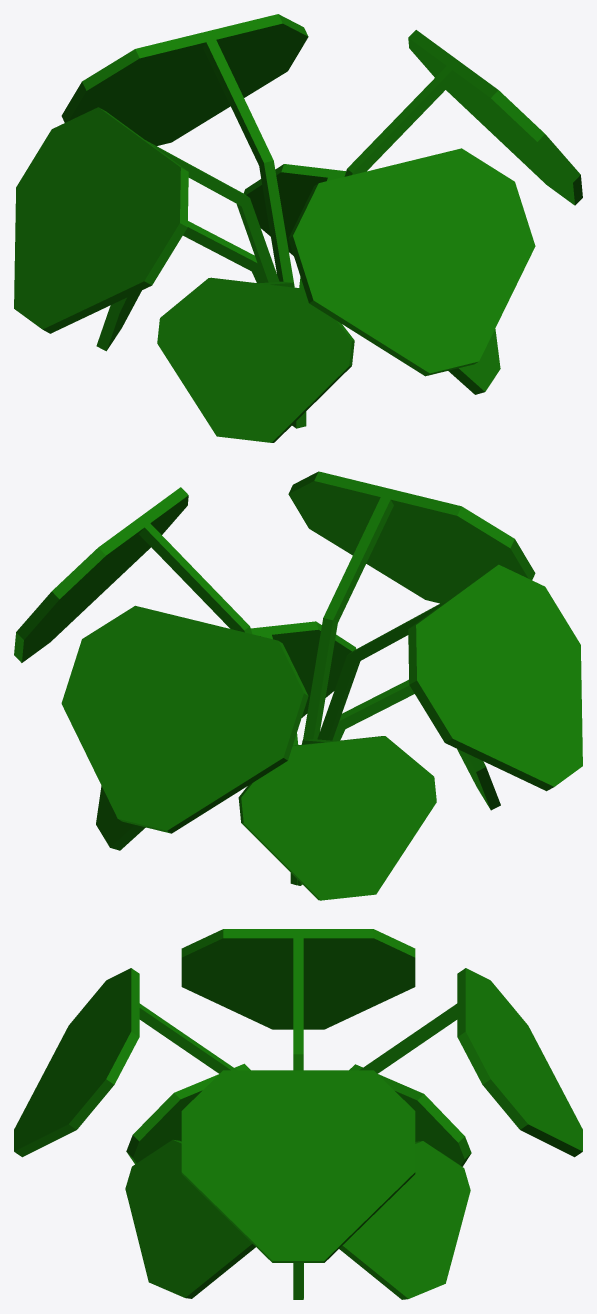
The model's file is plant2.dae.
3 renders of one model, top to bottom at view 1: azimuth 30°, elevation 25°; view 2: azimuth 150°, elevation 25°; view 3: azimuth 270°, elevation 25°, orthographic. The views are drawn at different scales.
Visible parts, largest first — view 1: STRAWBERRIES_DUMMY; view 2: STRAWBERRIES_DUMMY; view 3: STRAWBERRIES_DUMMY.
Boxes of the visible parts, box(x1,y1,x2,y2) form: STRAWBERRIES_DUMMY: box(14, 14, 582, 442); STRAWBERRIES_DUMMY: box(14, 471, 582, 900); STRAWBERRIES_DUMMY: box(14, 929, 582, 1299).
Size of the model in its own units: 0.4382 by 0.4382 by 0.2532.
